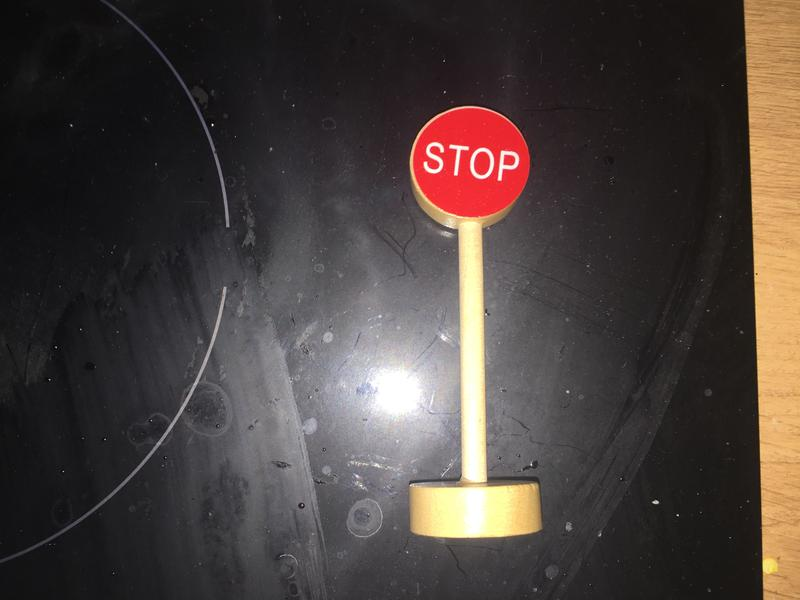Traffic_Sign_Stop: (410, 102, 530, 222)
